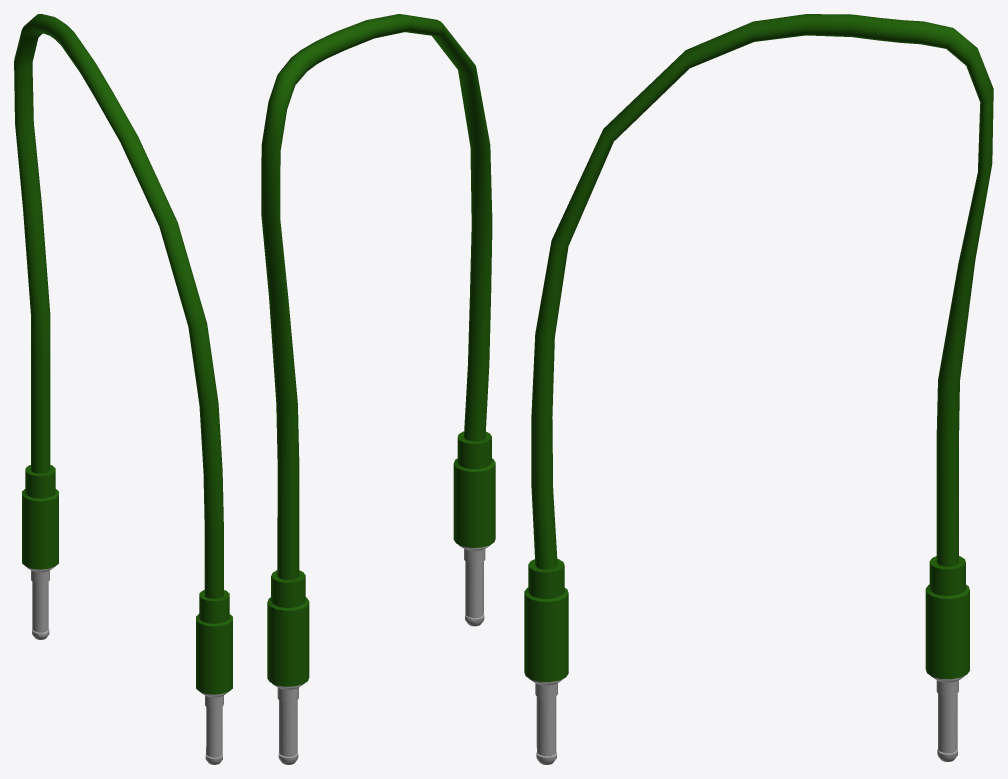
Rendered from Green.gltf.
The picture shows the model from 3 angles, left to right: view 1: azimuth 30°, elevation 25°; view 2: azimuth 150°, elevation 25°; view 3: azimuth 270°, elevation 25°; orthographic projection. The views are drawn at different scales.
Parts seen in each view (by area): view 1: Wire_011; view 2: Wire_011; view 3: Wire_011.
Part boxes in pixels (left/top/right/bottom): Wire_011: left=14, top=14, right=232, bottom=764; Wire_011: left=261, top=14, right=495, bottom=764; Wire_011: left=524, top=14, right=993, bottom=764.
Bounding box in the file's own units: 0.06 × 0.7279 × 0.4172.
2 materials, 1 textured.
